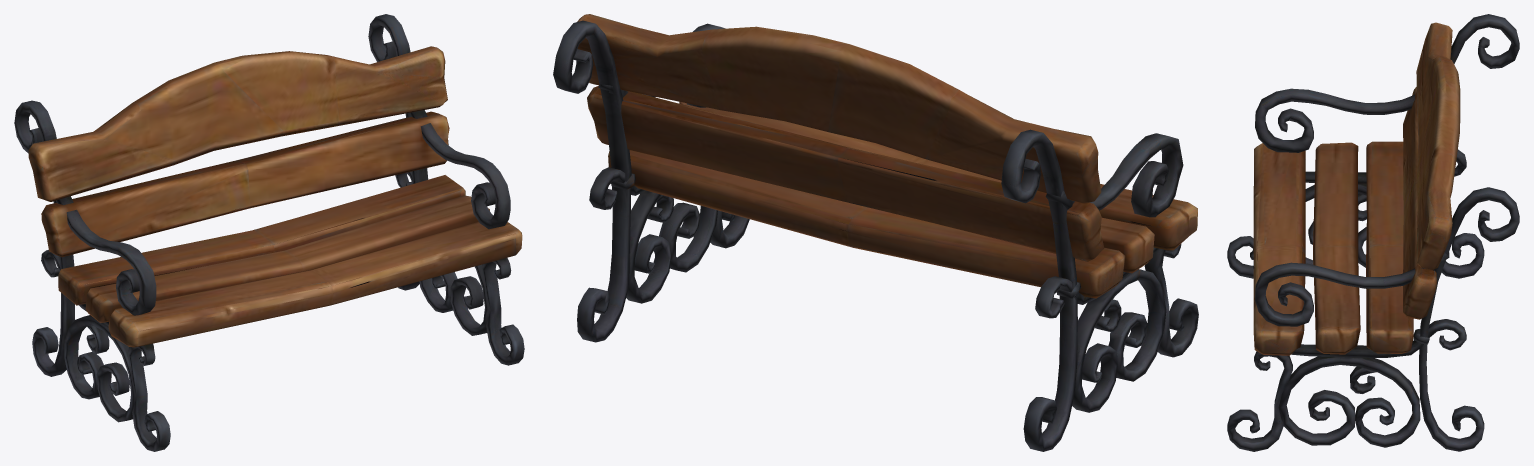
The model's file is bench.glb.
3 renders of one model, left to right at view 1: azimuth 30°, elevation 25°; view 2: azimuth 150°, elevation 25°; view 3: azimuth 270°, elevation 25°, orthographic. The views are drawn at different scales.
Parts seen in each view (by area): view 1: geometry_0; view 2: geometry_0; view 3: geometry_0.
Part boxes in pixels (left/top/right/bottom): geometry_0: left=14, top=14, right=524, bottom=451; geometry_0: left=553, top=14, right=1198, bottom=451; geometry_0: left=1227, top=14, right=1519, bottom=451.
Size of the model in its own units: 0.9546 by 0.6118 by 0.5889.
Materials: 1 (1 with a texture image).
